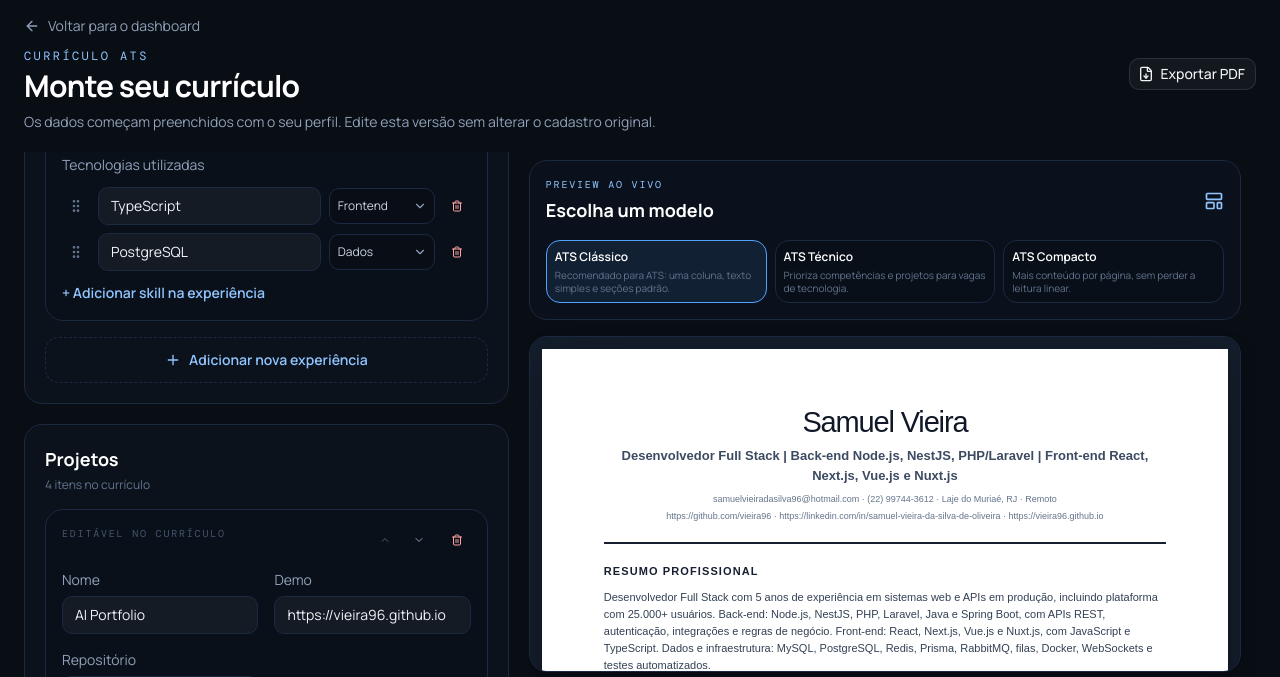
Test: ResumeEditor › allows adding and removing an experience from the local snapshot
This screenshot has width=1280, height=677.
(page scrolled)
Click the button "Adicionar nova experiência": [266, 360] box [45, 337, 488, 383]
(page scrolled)
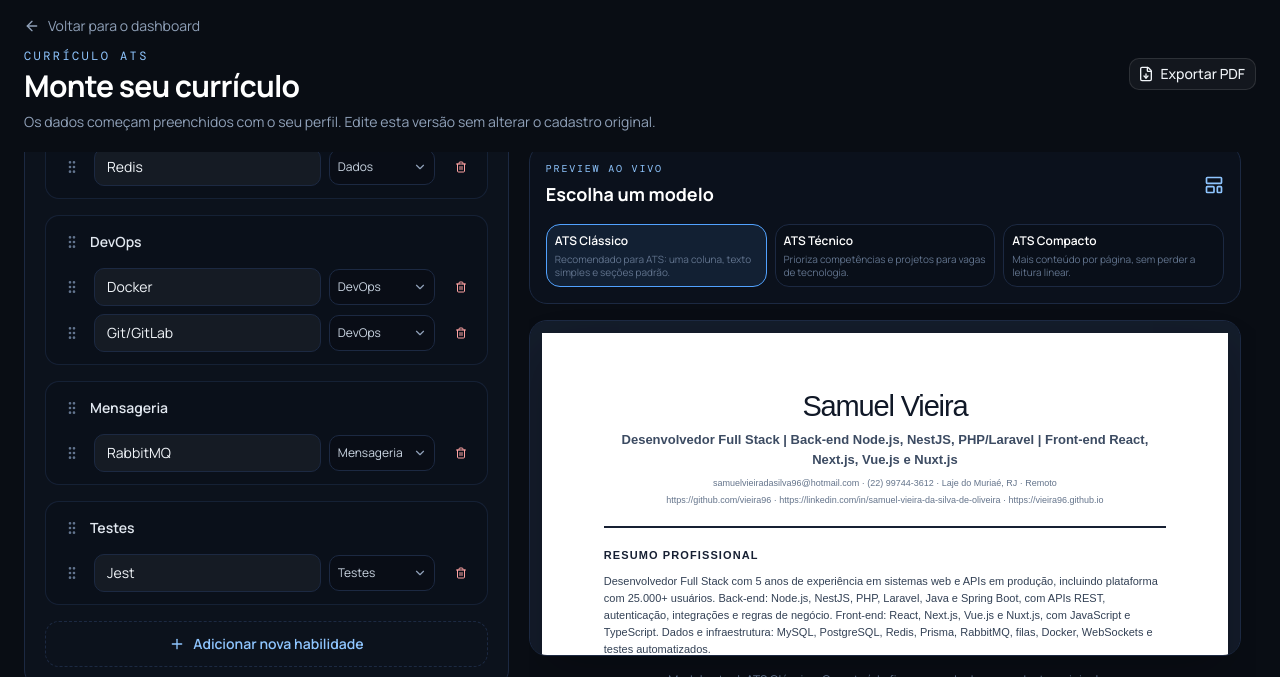
Click the 5th button named "Remover item": [461, 573] box [447, 559, 475, 587]
(page scrolled)
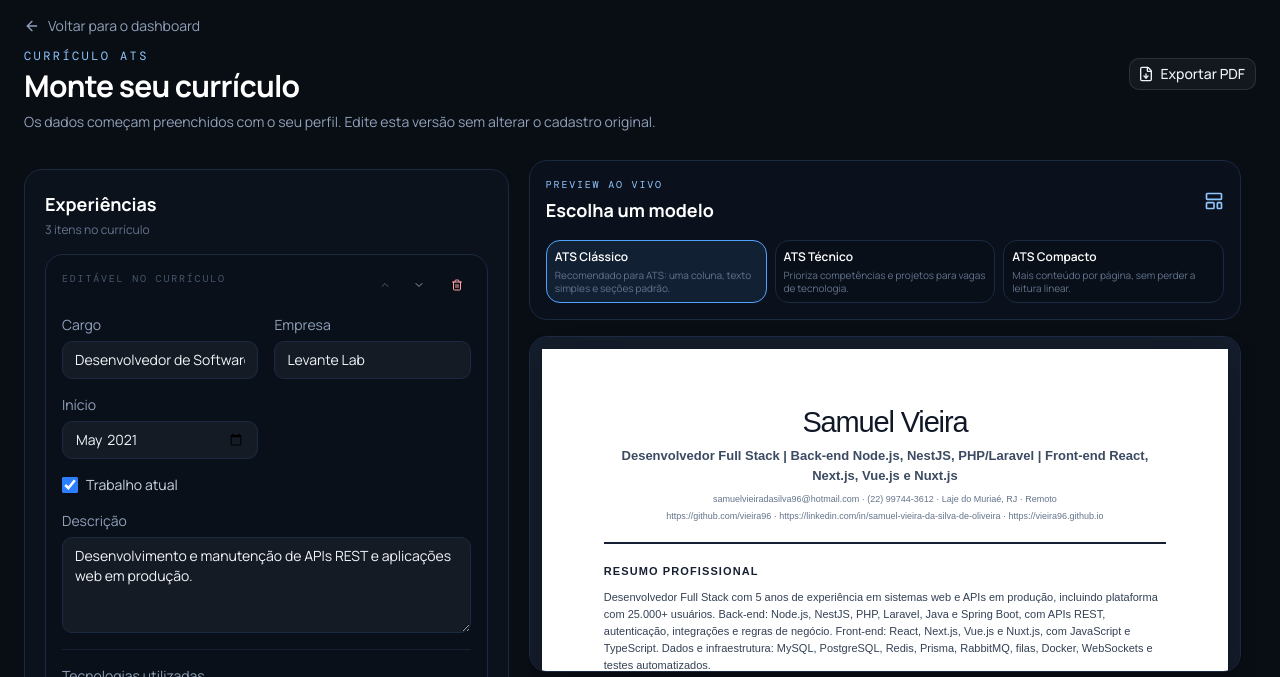
Expected: the field showing "Levante Lab" is shown, [274, 341, 471, 379]
Result: the number of buttons named "Remover item" is 30
